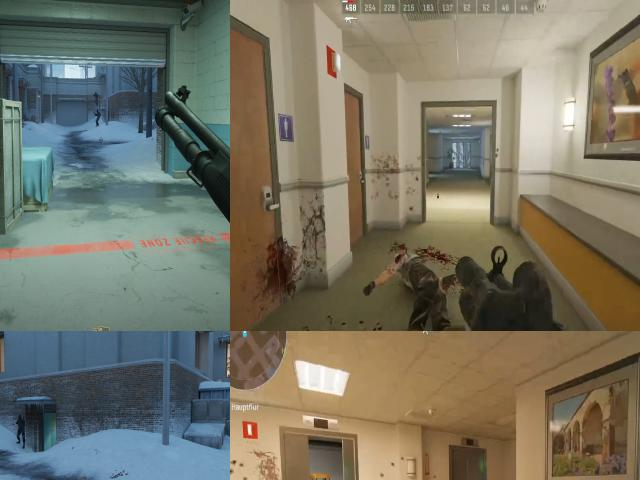CT: (17, 413, 26, 441), (96, 110, 100, 126), (95, 91, 98, 105)
CT-Head: (18, 413, 23, 421), (96, 110, 99, 112), (95, 92, 97, 94)
Dead: (387, 232, 453, 331)
